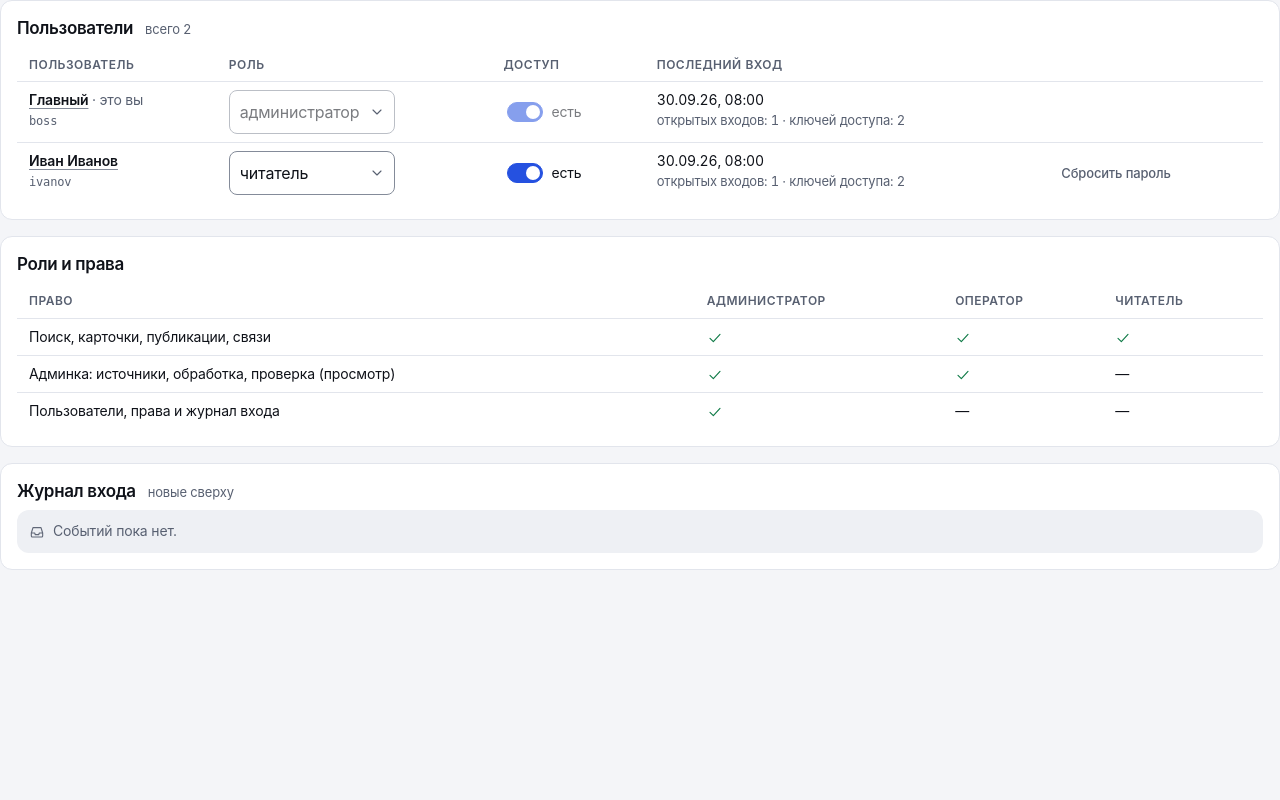
экран «Пользователи» › сброс пароля — в окне: сначала пароль и «Сбросить», затем он же для передачи
What coordinates should you click on to do the following:
click the button named "Сбросить пароль «Иван Иванов»"
I would click on:
 (1116, 173)
Its box is [1050,151,1182,195].
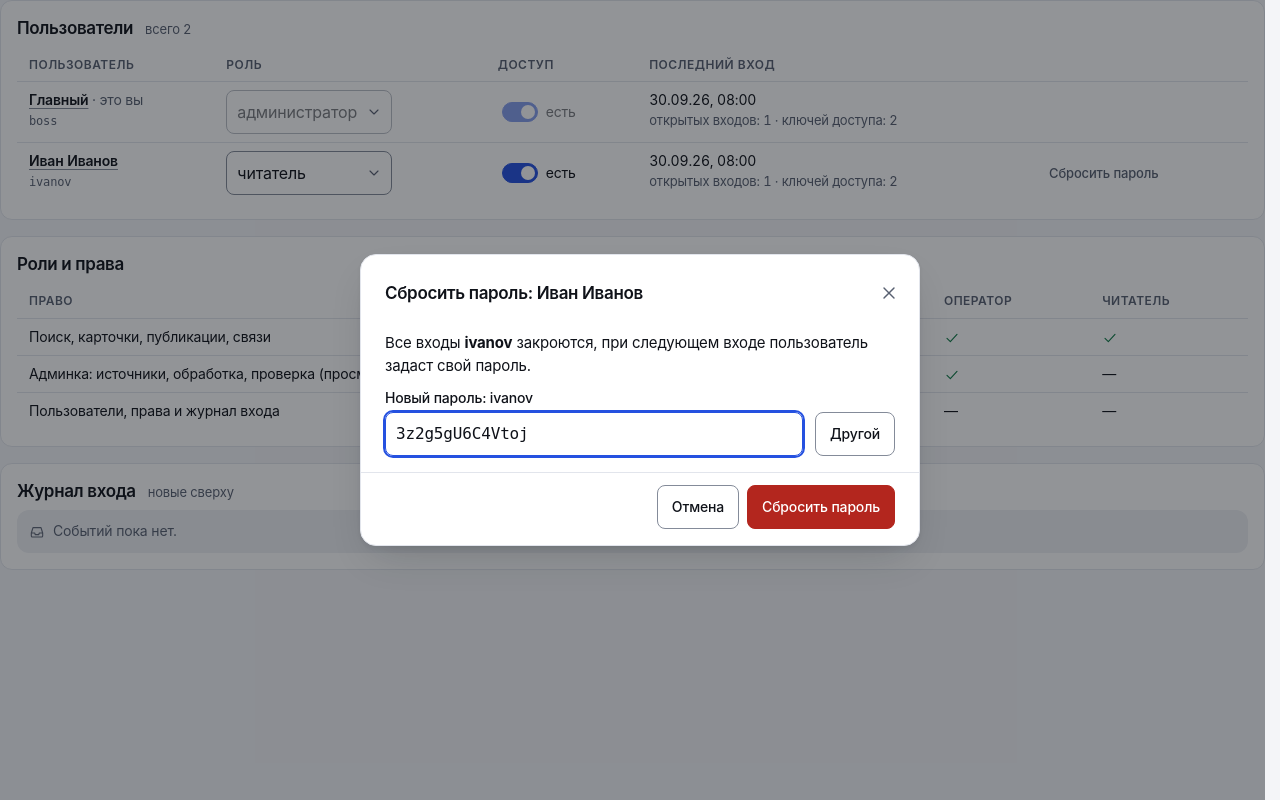
What coordinates should you click on to do the following:
click the button "Сбросить пароль"
I would click on:
 (821, 507)
Its box is [747,485,895,529].
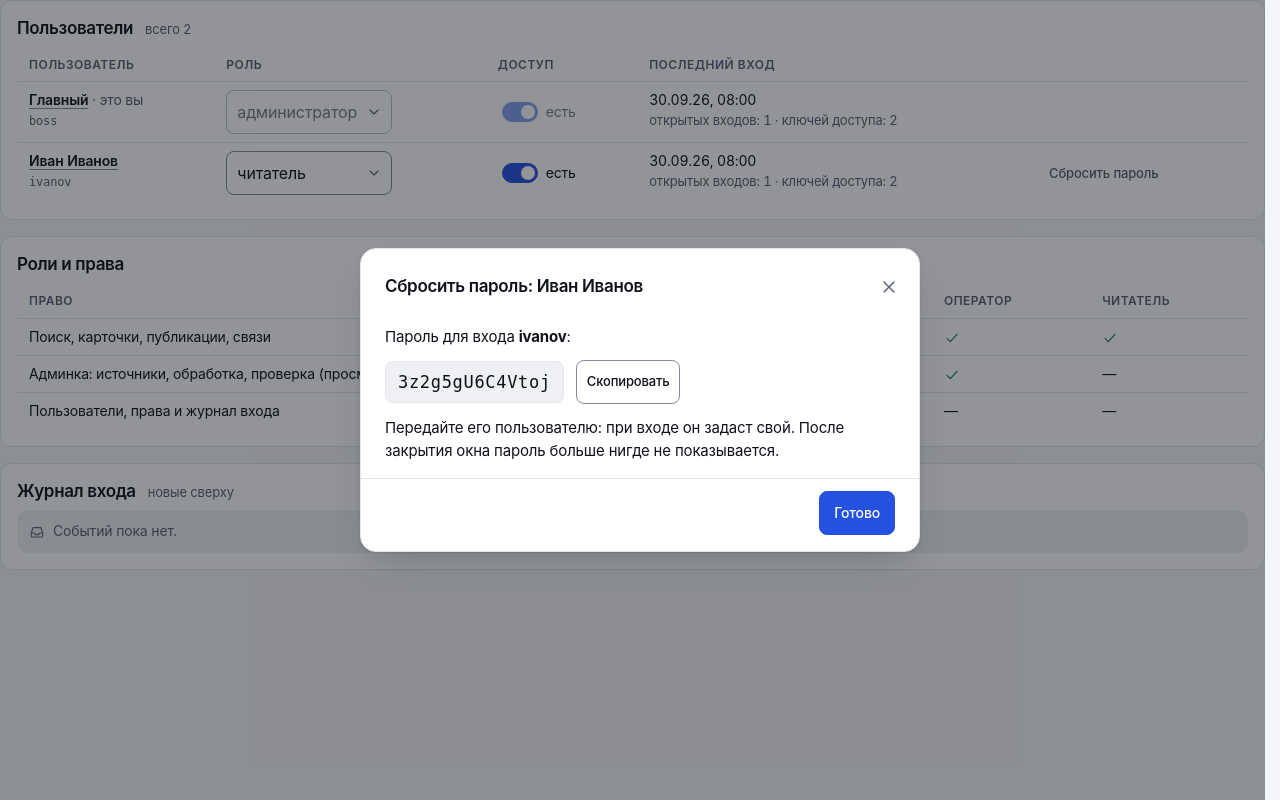
Check: the button "Готово" is shown, box [819,491,895,535]
